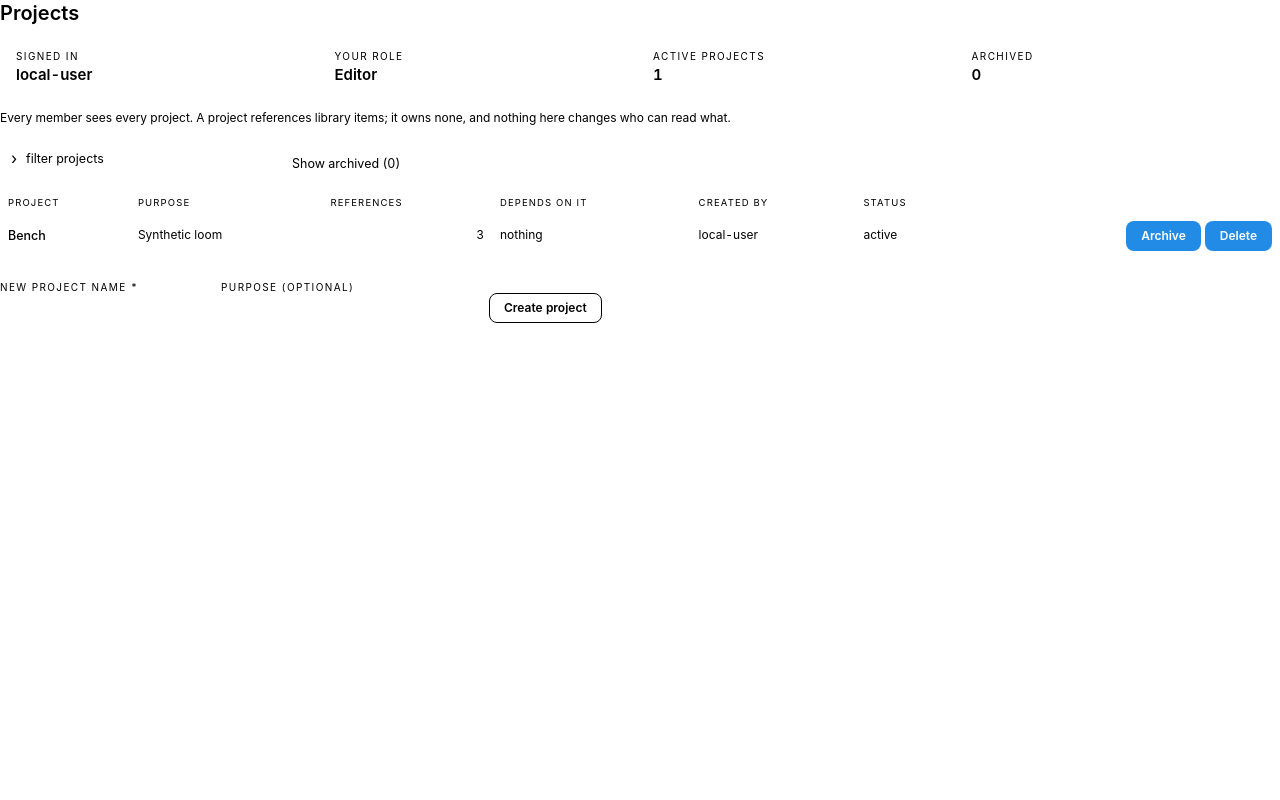
Test case: archive and delete use the project's current state token and re-read the list
Click the button with aria-label "Archive Bench": (1164, 236) [1126,221,1201,251]
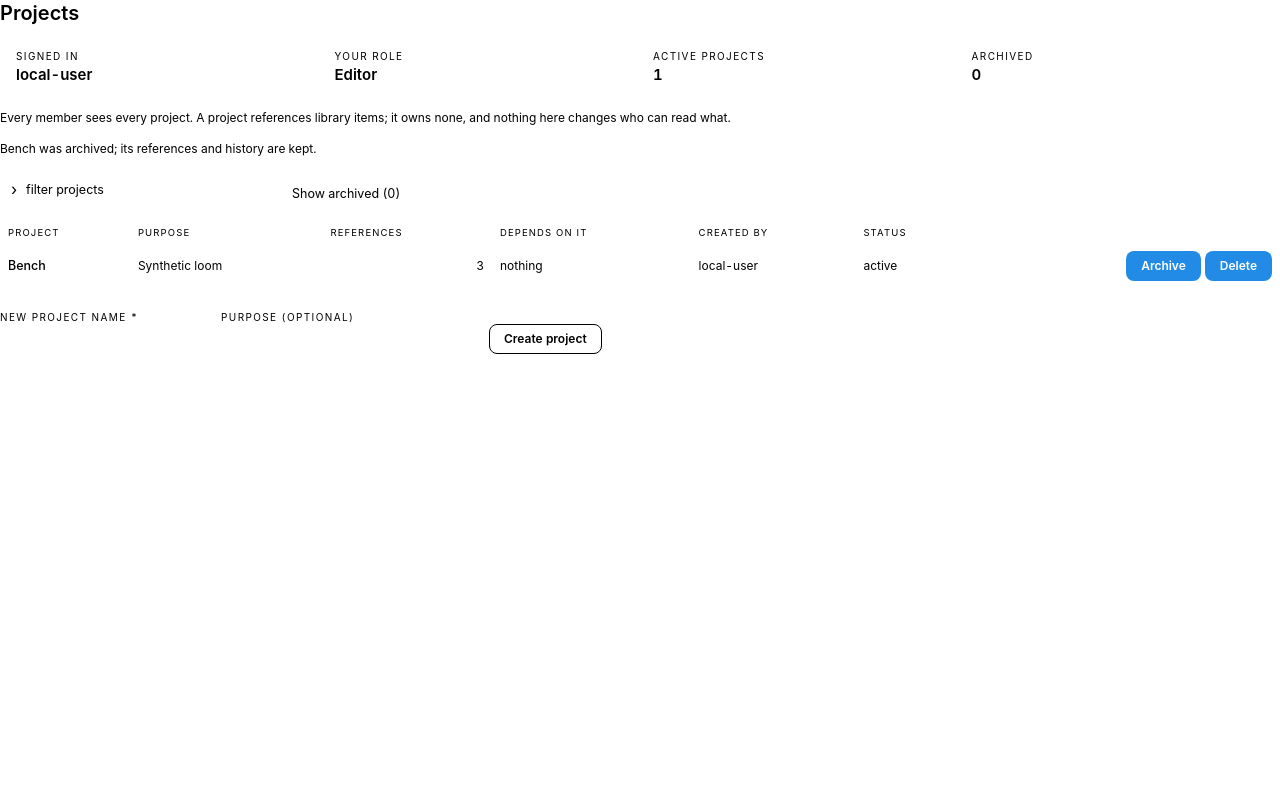
Click the button with aria-label "Delete Bench": (1238, 266) [1205,251,1272,281]
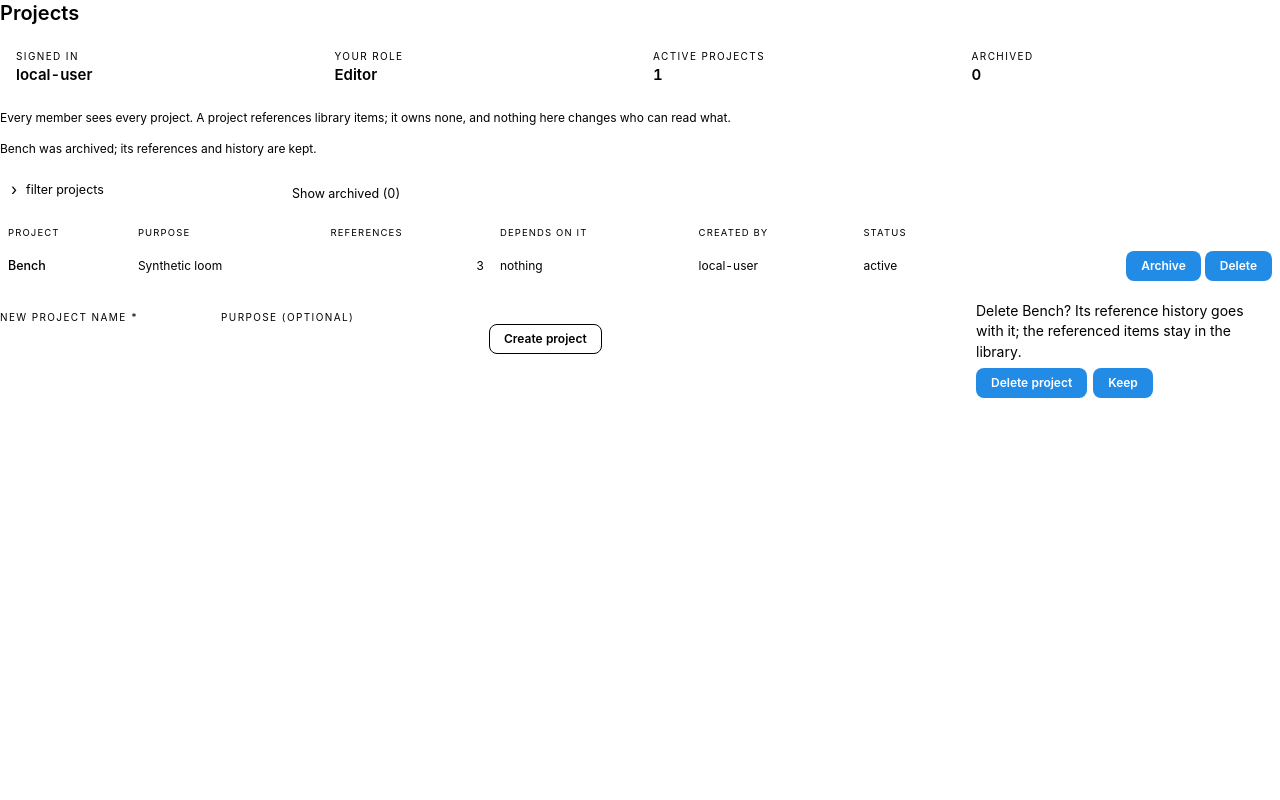
Click the button "Delete project": (1032, 383) [976,368,1087,398]
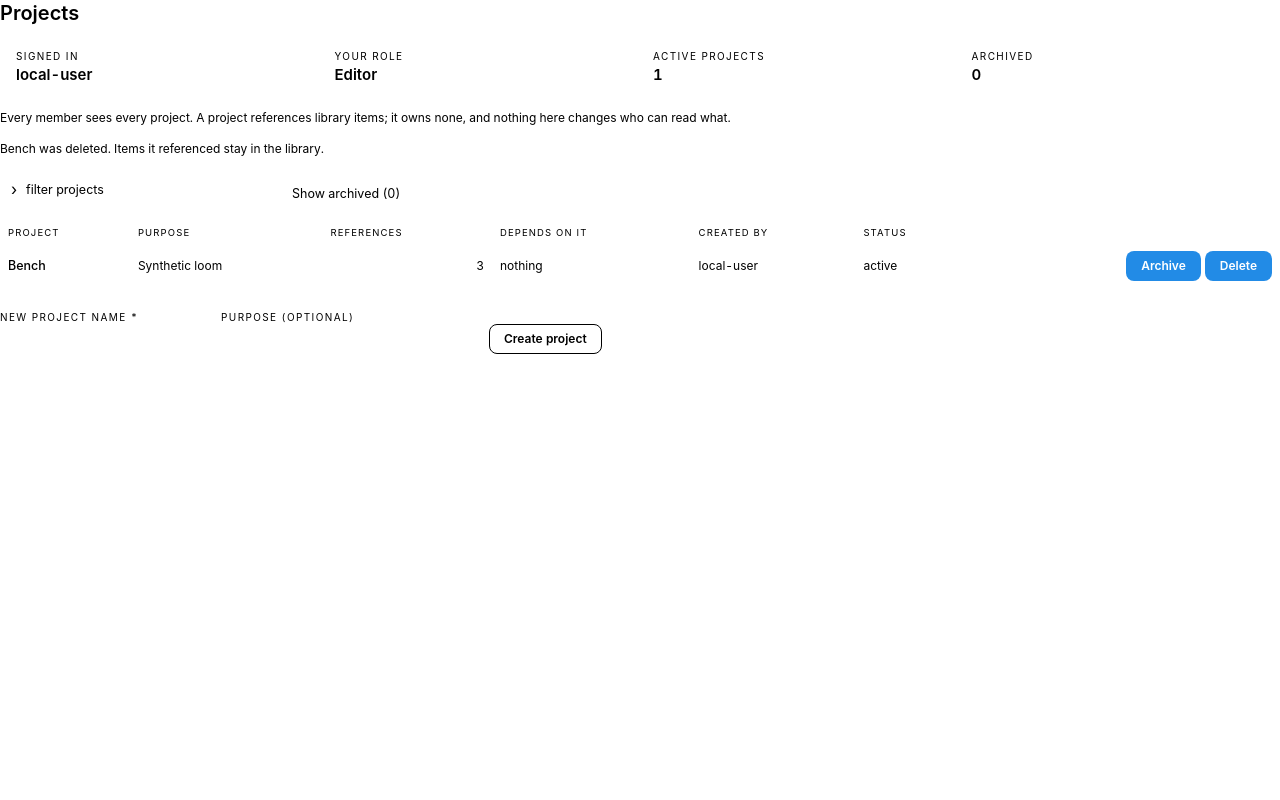
Now the text "Bench was deleted. Items it referenced stay in the library." is shown, box [0,141,324,156]
